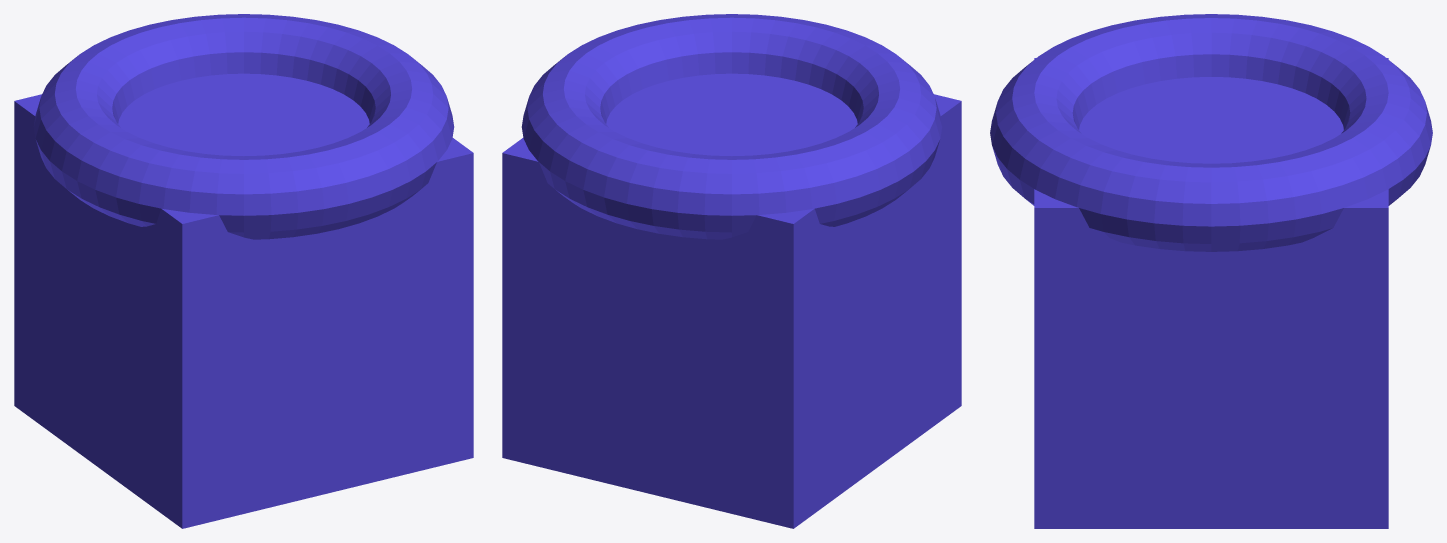
The model's file is Assembler.glb.
3 views of the same model, side by side, from view 1: azimuth 30°, elevation 25°; view 2: azimuth 150°, elevation 25°; view 3: azimuth 270°, elevation 25° (orthographic). The views are drawn at different scales.
Visible parts, largest first — view 1: Cube, Torus; view 2: Cube, Torus; view 3: Cube, Torus.
Part boxes in pixels (box(x1,y1,x2,y2)): Cube: box(14, 73, 473, 528); Torus: box(33, 14, 454, 239); Cube: box(502, 73, 961, 528); Torus: box(521, 14, 942, 239); Cube: box(1034, 58, 1388, 528); Torus: box(990, 14, 1432, 251).
Size of the model in its own units: 5 by 4.5 by 5.
